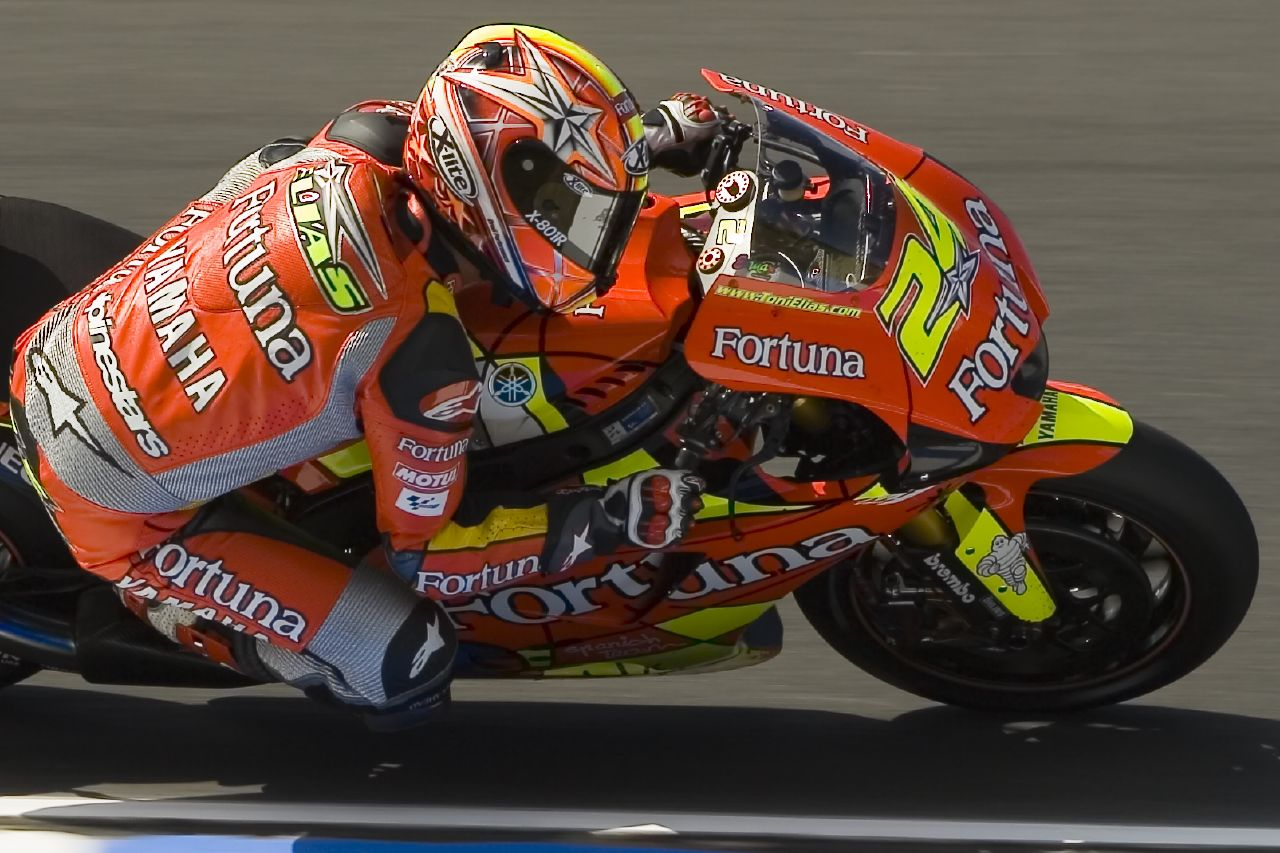helmet: (412, 29, 638, 308)
